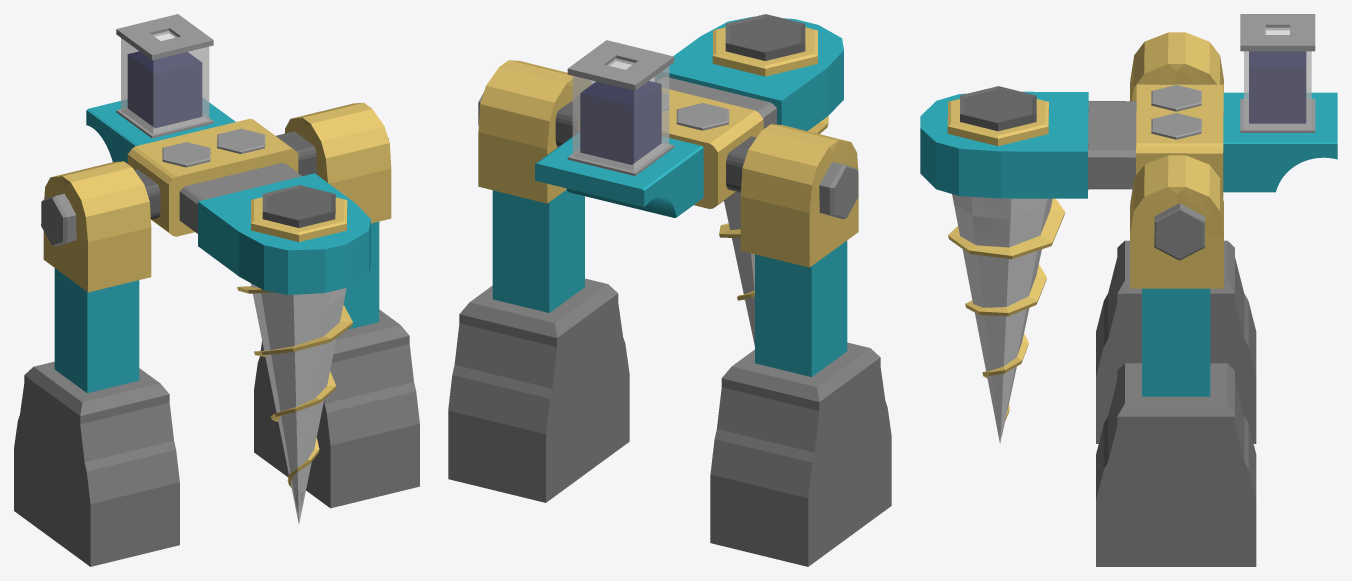
Rendered from drill bit.fbx.
3 views of the same model, side by side, from view 1: azimuth 30°, elevation 25°; view 2: azimuth 150°, elevation 25°; view 3: azimuth 270°, elevation 25° (orthographic). The views are drawn at different scales.
Parts seen in each view (by area): view 1: Gold mine, drill bit; view 2: Gold mine, drill bit; view 3: Gold mine, drill bit.
Part boxes in pixels (x1,y1,x2,y2): Gold mine: (14, 14, 419, 566); drill bit: (237, 283, 352, 523); Gold mine: (448, 14, 891, 566); drill bit: (719, 116, 828, 345); Gold mine: (920, 14, 1337, 566); drill bit: (948, 194, 1064, 443).
Bounding box in the file's own units: 193 × 240 × 202.
